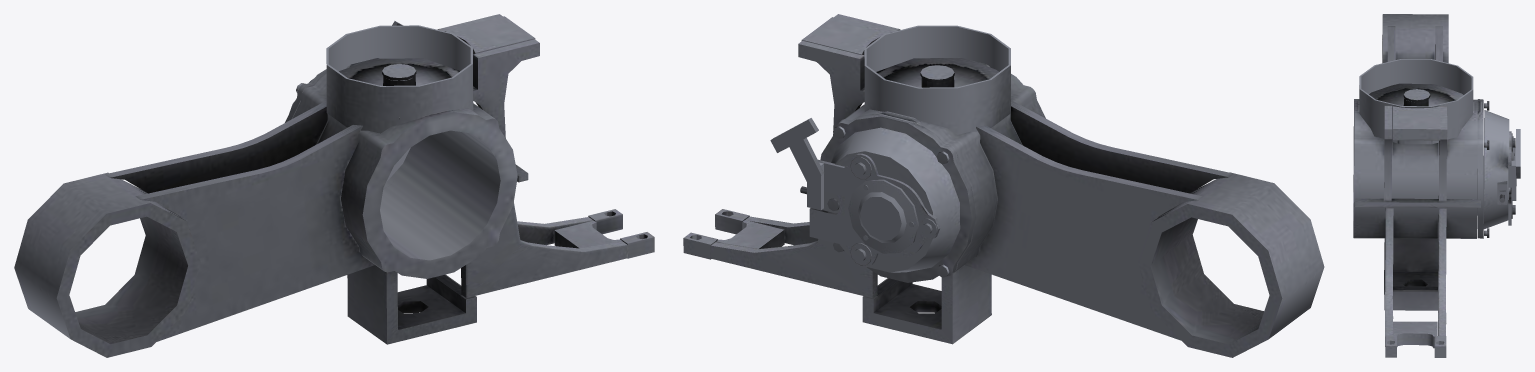
Rendered from duangai002.FBX.
3 views of the same model, side by side, from view 1: azimuth 30°, elevation 25°; view 2: azimuth 150°, elevation 25°; view 3: azimuth 270°, elevation 25° (orthographic). The views are drawn at different scales.
Parts seen in each view (by area): view 1: Object064; view 2: Object064; view 3: Object064.
Boxes of the visible parts, x1,y1,x2,y2 form: Object064: [14, 14, 654, 357]; Object064: [683, 14, 1324, 357]; Object064: [1353, 14, 1520, 357].
Bounding box in the file's own units: 0.8398 × 0.3559 × 0.2609.
